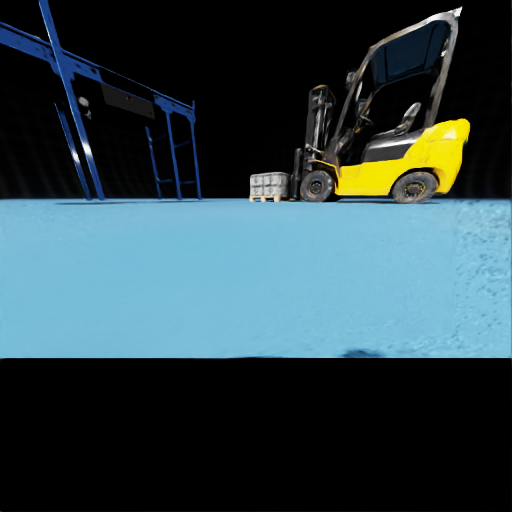transportation_area: (264, 184, 291, 194), (269, 188, 273, 197), (77, 65, 79, 67), (51, 54, 53, 56), (50, 51, 51, 52)
